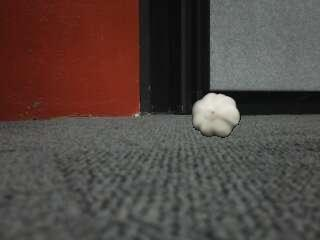Garlic: (191, 93, 243, 139)
